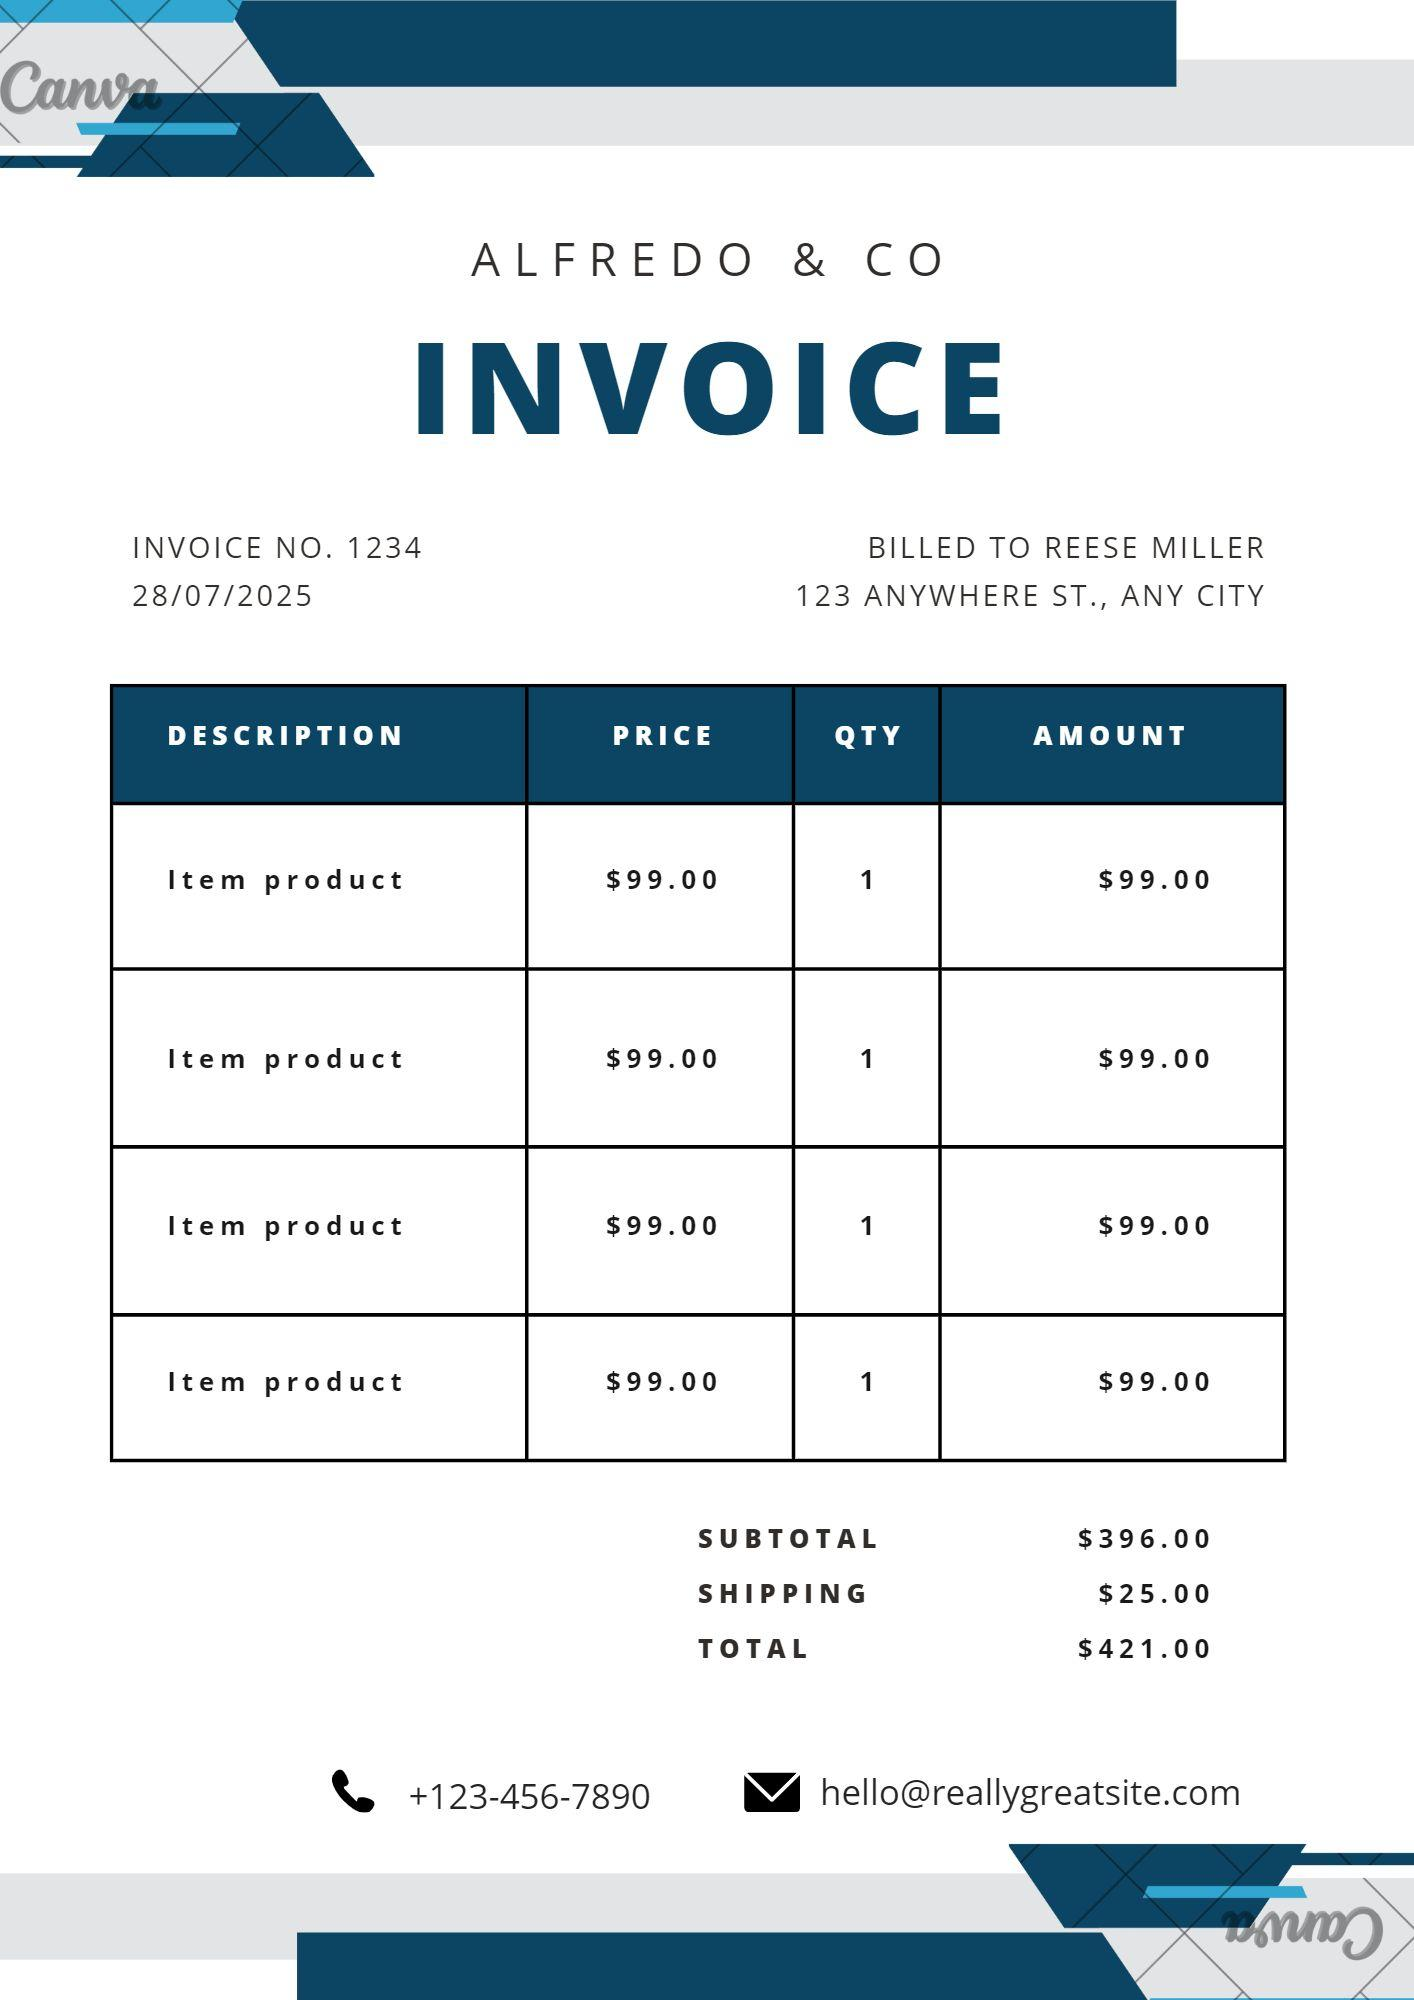ROI: (99, 675, 1295, 1467)
